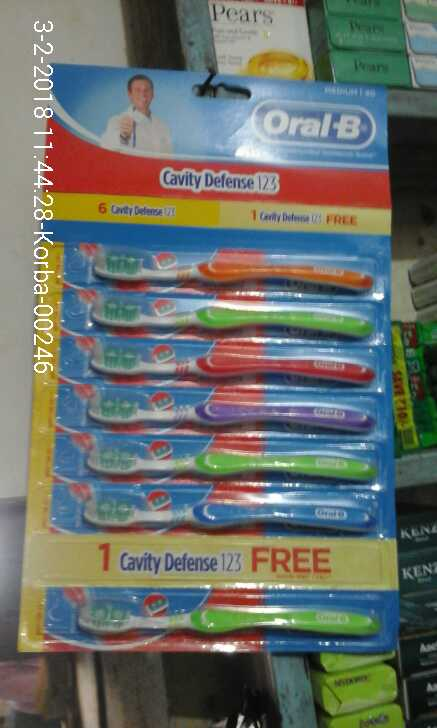oralb: (61, 380, 388, 436), (68, 482, 387, 537), (87, 324, 375, 384), (61, 589, 387, 638), (78, 242, 387, 290), (87, 285, 381, 335), (77, 437, 390, 478)
